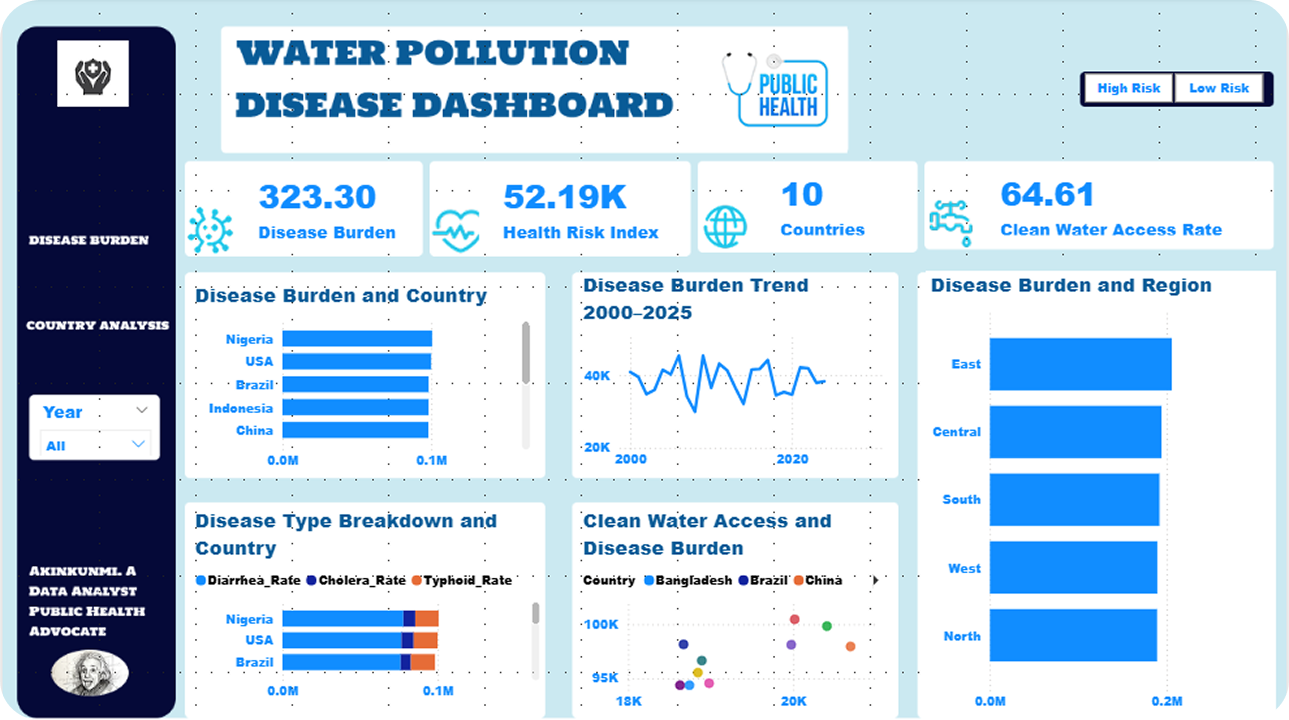

The dashboard page shown, as its layout file describes it:
{"tool":"powerbi","page":{"name":"Disease Burden & Country Analysis","canvas":[1280,720],"ordinal":0},"visuals":[{"type":"cardVisual","fields":{"Data":["Avg(Sheet1.Total_Disease_Burden)"]},"box":[225.4,162.8,197.6,96],"z":0},{"type":"cardVisual","fields":{"Data":["Avg(Sheet1.Health_Risk_Index)"]},"box":[470.3,162.8,217,96],"z":1000},{"type":"cardVisual","fields":{"Data":["Sheet1.Countries"]},"box":[745.7,161.4,162.8,93.2],"z":2000},{"type":"cardVisual","fields":{"Data":["Avg(Sheet1.Clean_Water_Access_Rate)"]},"box":[965.6,161.4,290.8,93.2],"z":3000},{"type":"barChart","title":"Disease Burden and Country","fields":{"Category":["Sheet1.Country"],"Y":["Sum(Sheet1.Total_Disease_Burden)"]},"box":[186.4,282.4,343.7,197.6],"z":4000},{"type":"barChart","title":"Disease Type Breakdown and Country","fields":{"Y":["Sum(Sheet1.Diarrhea_Rate)","Sum(Sheet1.Cholera_Rate)","Sum(Sheet1.Typhoid_Rate)"],"Category":["Sheet1.Country"]},"box":[186.4,507.8,353.4,203.1],"z":5000},{"type":"lineChart","title":"Disease Burden Trend 2000–2025","fields":{"Y":["Sum(Sheet1.Total_Disease_Burden)"],"Category":["Sheet1.Year"]},"box":[573.2,272.7,315.8,207.3],"z":6000},{"type":"scatterChart","title":"Clean Water Access and Disease Burden","fields":{"Y":["Sum(Sheet1.Total_Disease_Burden)"],"X":["Sum(Sheet1.Clean_Water_Access_Rate)"],"Series":["Sheet1.Country"]},"box":[573.2,507.8,315.8,212.9],"z":7000},{"type":"clusteredBarChart","title":"Disease Burden and Region","fields":{"Category":["Sheet1.Region"],"Y":["Sum(Sheet1.Total_Disease_Burden)"]},"box":[919.7,272.7,349.2,448],"z":8000},{"type":"slicer","fields":{"Values":["Sheet1.Year"]},"box":[27.8,395.1,130.8,61.2],"z":9000},{"type":"slicer","fields":{"Values":["Sheet1.Risk_Level"]},"box":[1051.8,68.2,228.2,43.1],"z":10000}]}

Visuals, with their boxes in screenshot pixels (x1, y1, x2, y2), scaled from the page's 1280x720 canvas onto the 1289x720 screenshot:
cardVisual - Avg(Sheet1.Total_Disease_Burden): Rect(227, 163, 426, 259)
cardVisual - Avg(Sheet1.Health_Risk_Index): Rect(474, 163, 692, 259)
cardVisual - Sheet1.Countries: Rect(751, 161, 915, 255)
cardVisual - Avg(Sheet1.Clean_Water_Access_Rate): Rect(972, 161, 1265, 255)
"Disease Burden and Country" barChart: Rect(188, 282, 534, 480)
"Disease Type Breakdown and Country" barChart: Rect(188, 508, 544, 711)
"Disease Burden Trend 2000–2025" lineChart: Rect(577, 273, 895, 480)
"Clean Water Access and Disease Burden" scatterChart: Rect(577, 508, 895, 719)
"Disease Burden and Region" clusteredBarChart: Rect(926, 273, 1278, 719)
slicer - Sheet1.Year: Rect(28, 395, 160, 456)
slicer - Sheet1.Risk_Level: Rect(1059, 68, 1288, 111)
